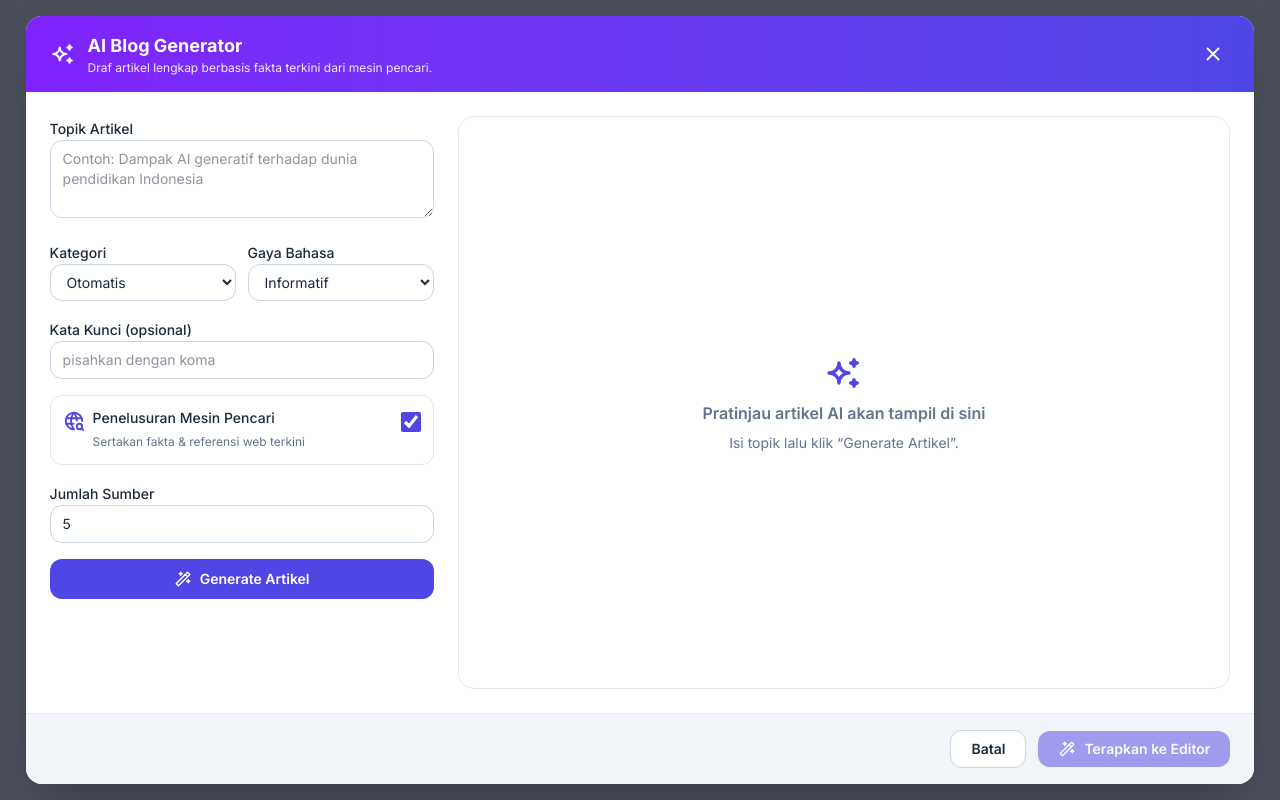
Test: AiPostGeneratorModal › tanpa web search: menampilkan peringatan & tanpa sumber
The width and height of the screenshot is (1280, 800).
Click the checkbox labelled "Penelusuran Mesin Pencari": coordinates (411, 422) [401,412,421,432]
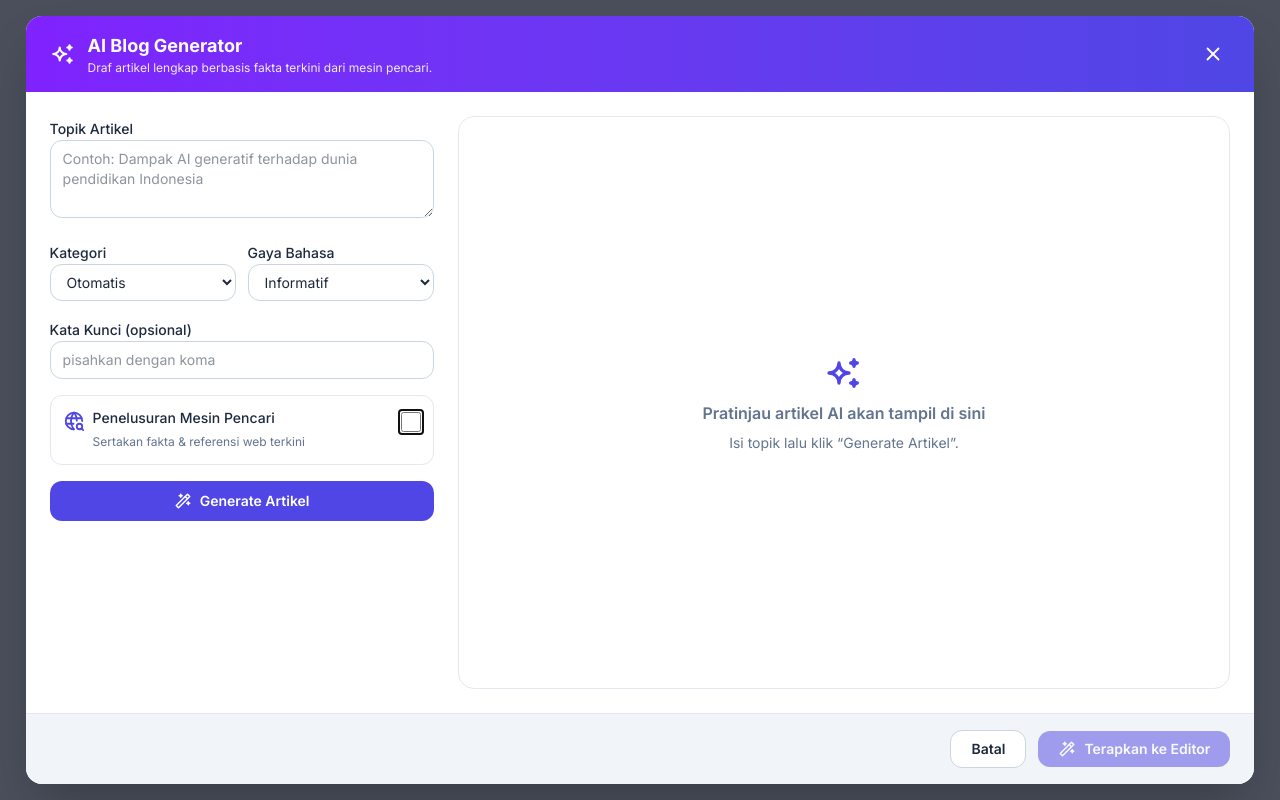
Check: the label labelled "Jumlah Sumber" is gone
In the text box labelled "Topik Artikel": coordinates (242, 179) [50,140,434,218], type "Topik apa saja"
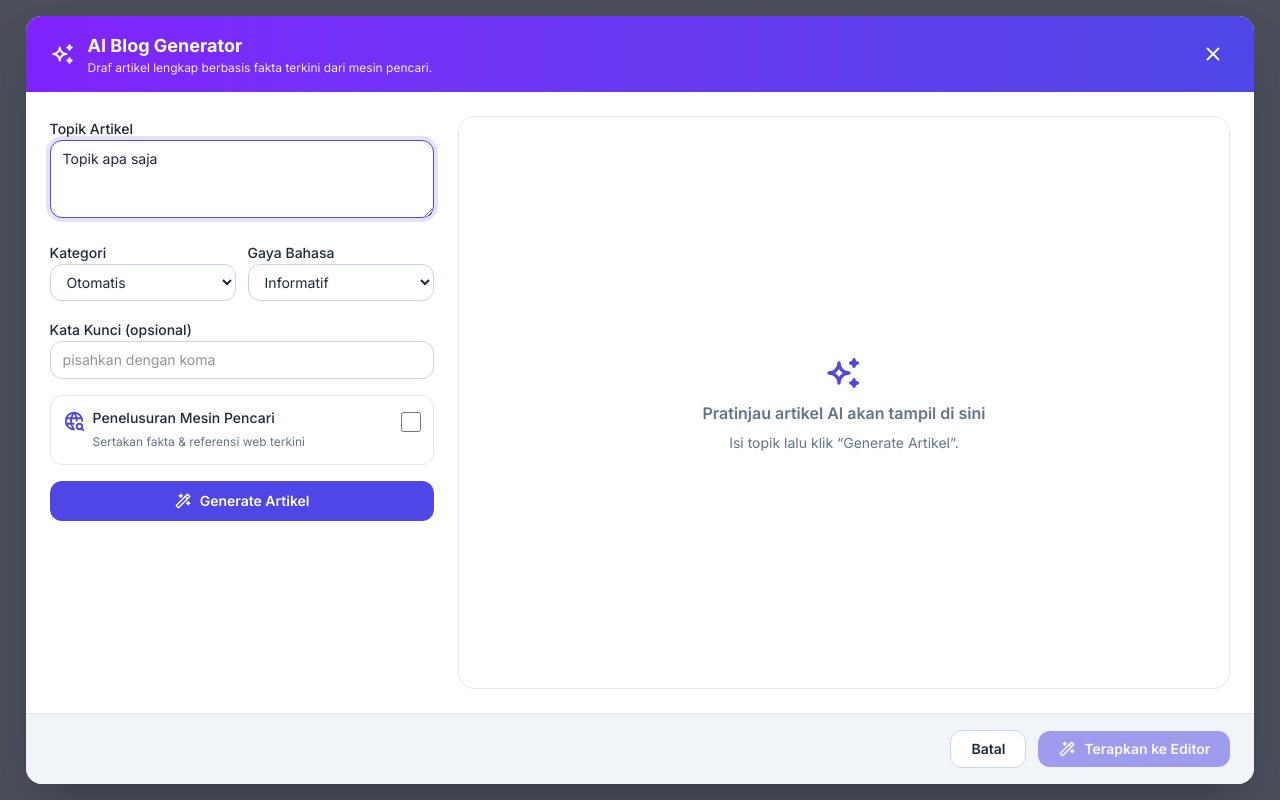
Click the button "Generate Artikel": coordinates (242, 501) [50,481,434,521]
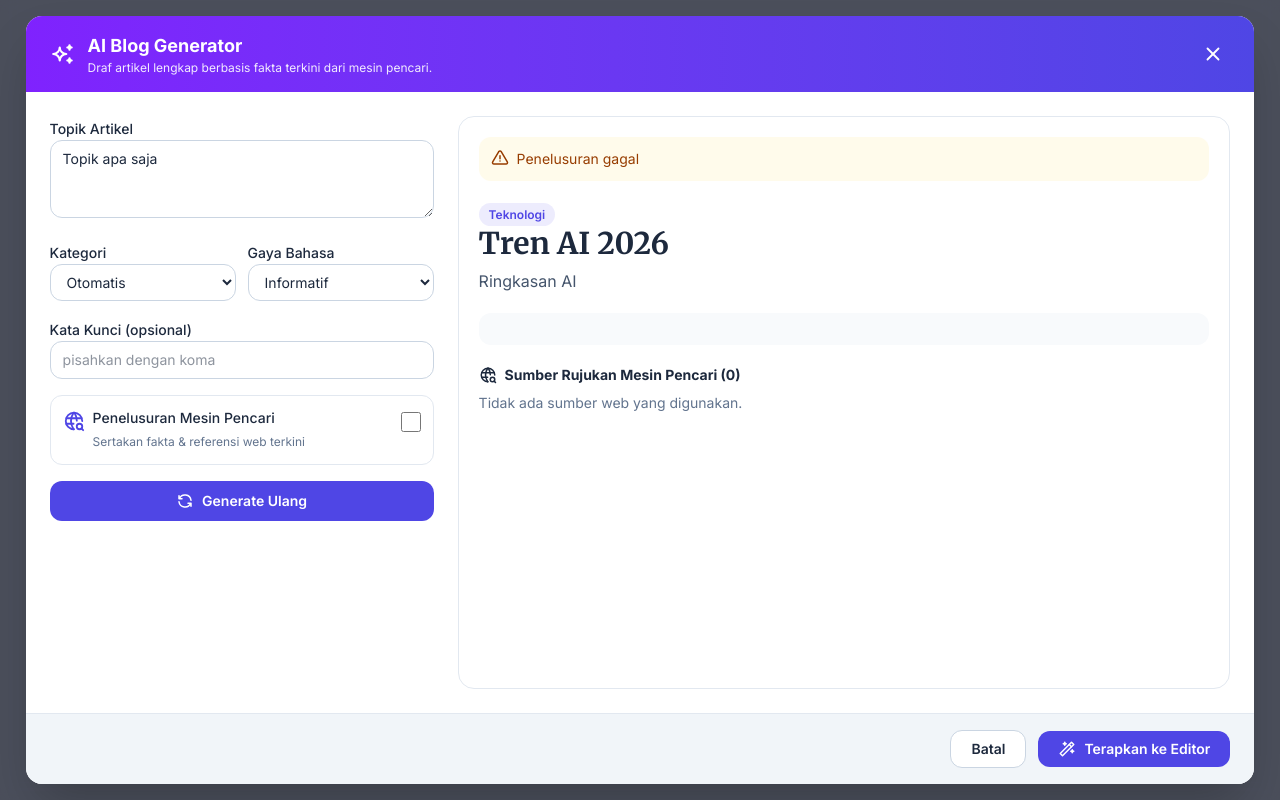
Check: the text "Penelusuran gagal" is shown, box [479,137,1209,181]
Check: the text "Tidak ada sumber web yang digunakan." is shown, box [479,394,742,411]
